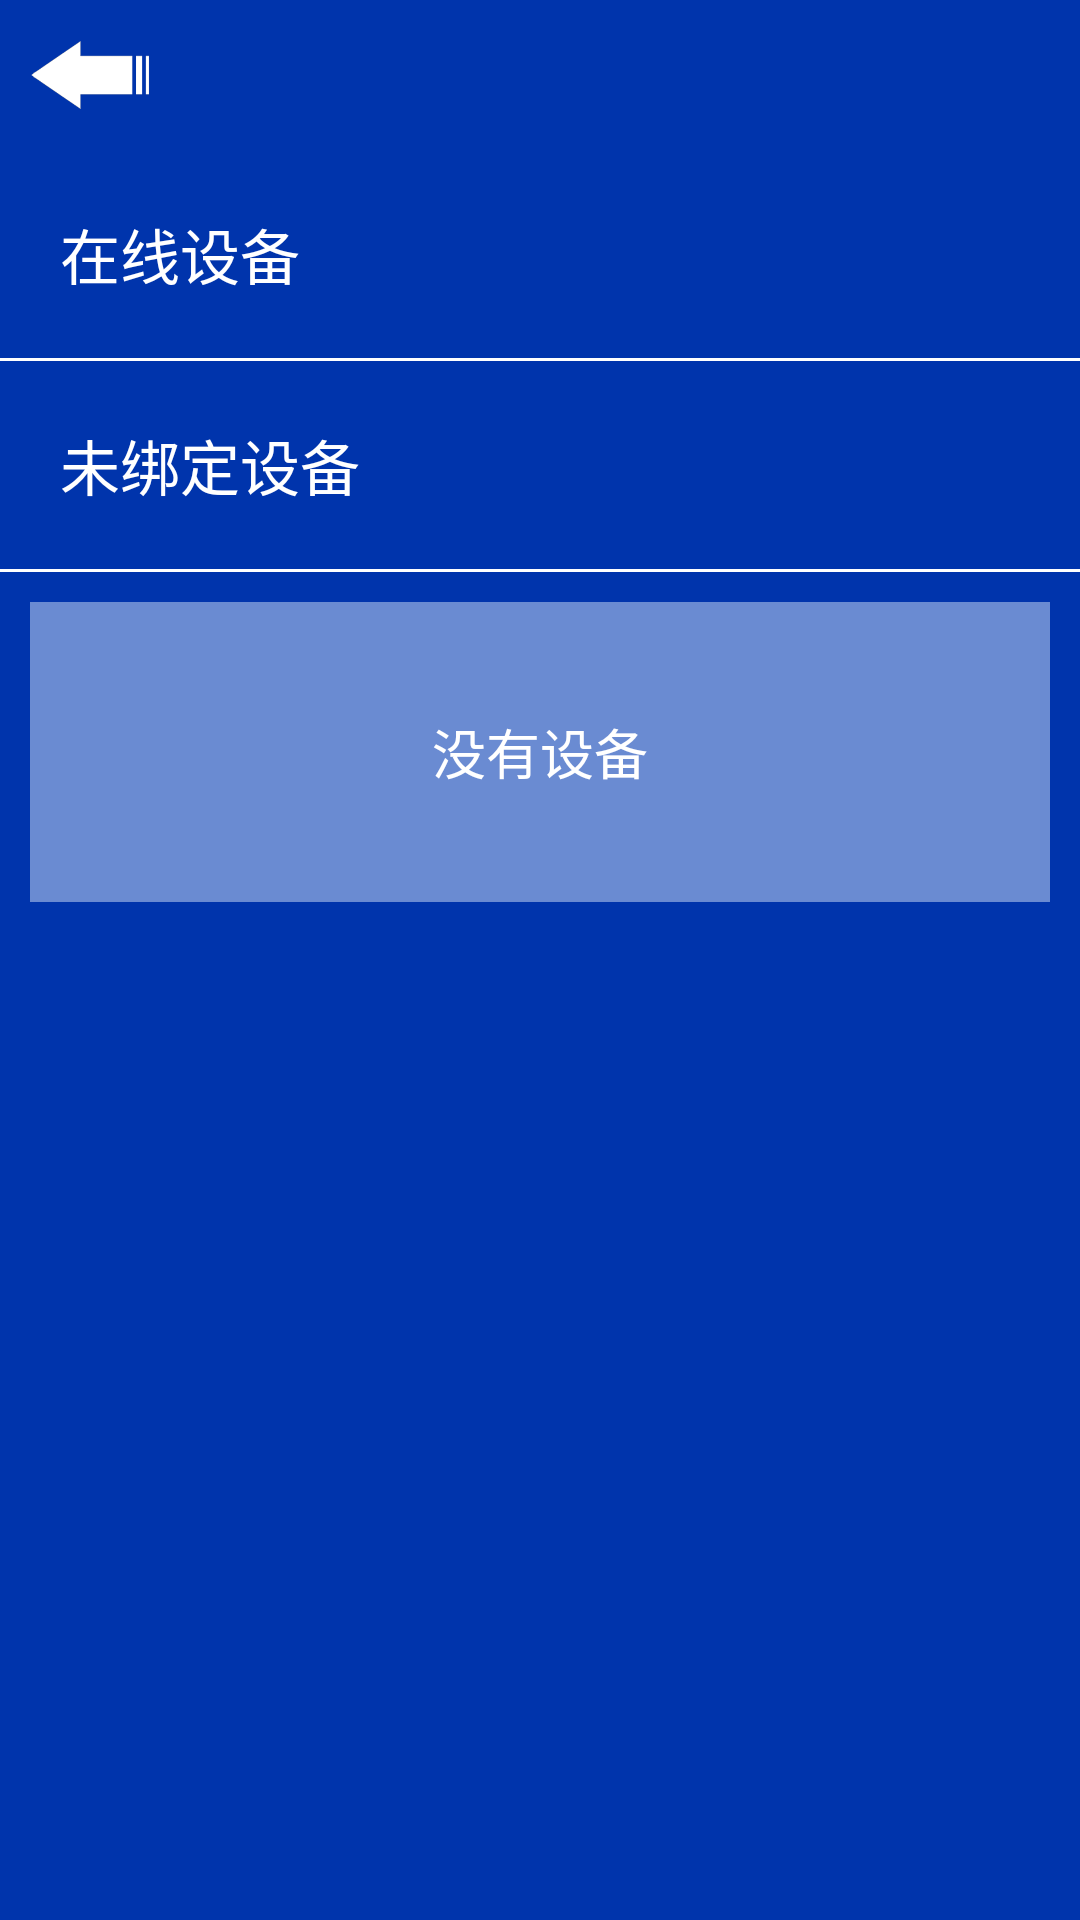

Icons on this 1080x1920 Android screen, each with its box as (x1, y1, x2, y2):
back: (31, 41, 149, 109)
